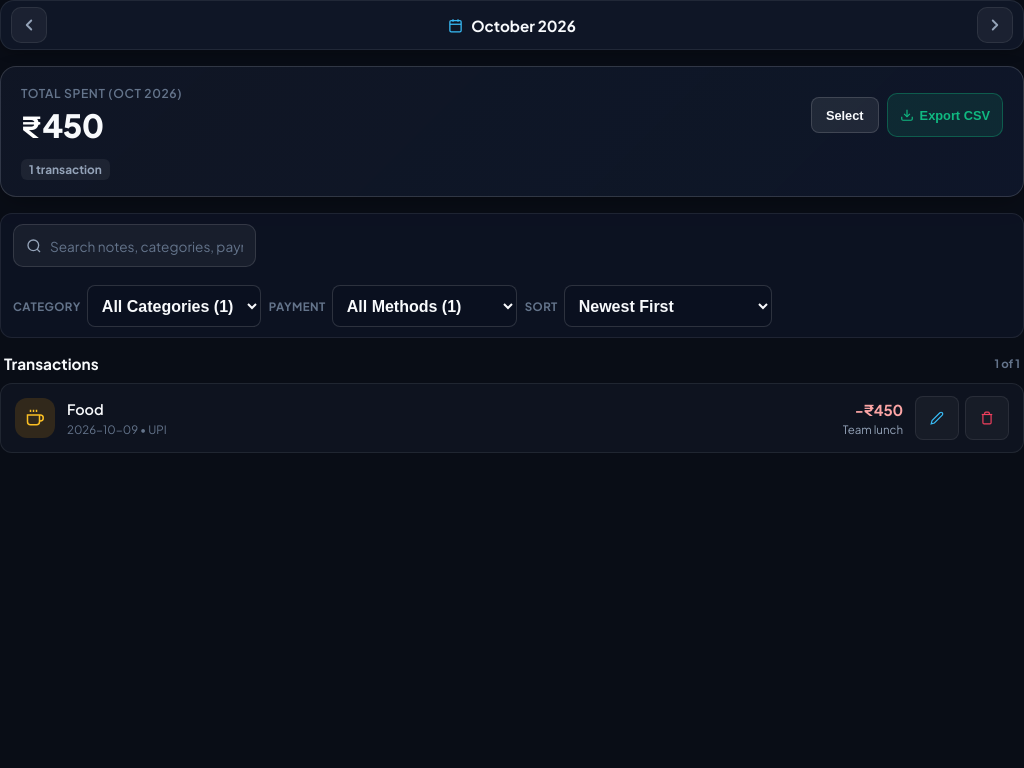
Scenario: ExpensesView delete confirmation behavior › preserves the record and closes modal when Cancel is clicked
The width and height of the screenshot is (1024, 768).
// Open modal
Click the button with class "delete" at point(987, 418), box x1=965 y1=396 x2=1009 y2=440
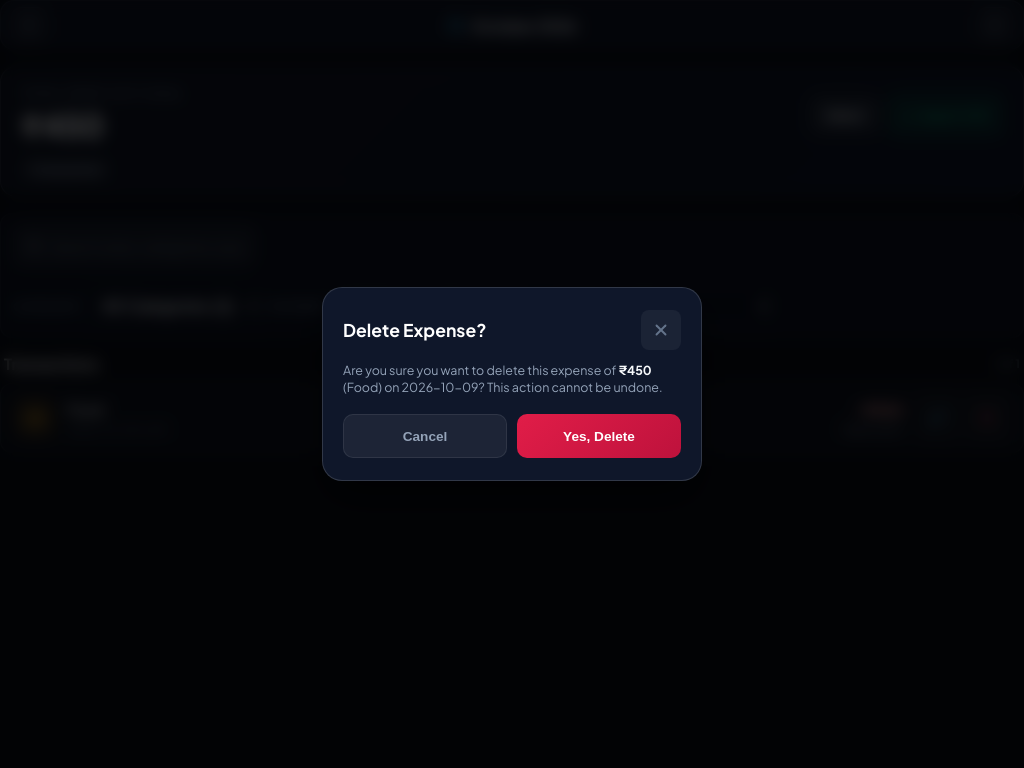
expect the element with class "modal-backdrop" is shown: met
expect the button with class "btn-modal-cancel" is shown: met
Click the button with class "btn-modal-cancel" at point(425, 436), box x1=343 y1=414 x2=507 y2=458
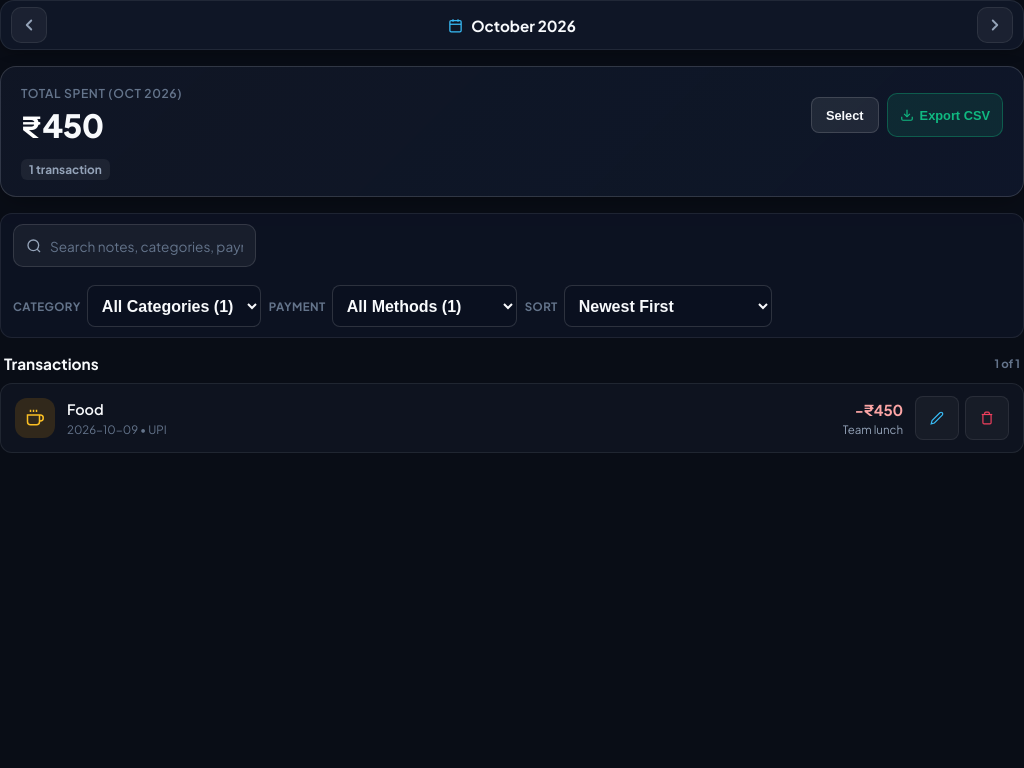
expect the element with class "modal-backdrop" is gone: met
